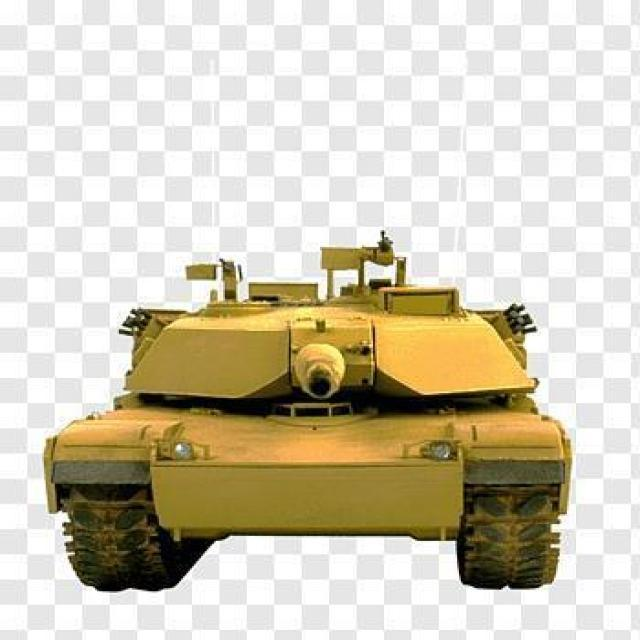MIL_MBT: (41, 279, 570, 595)
